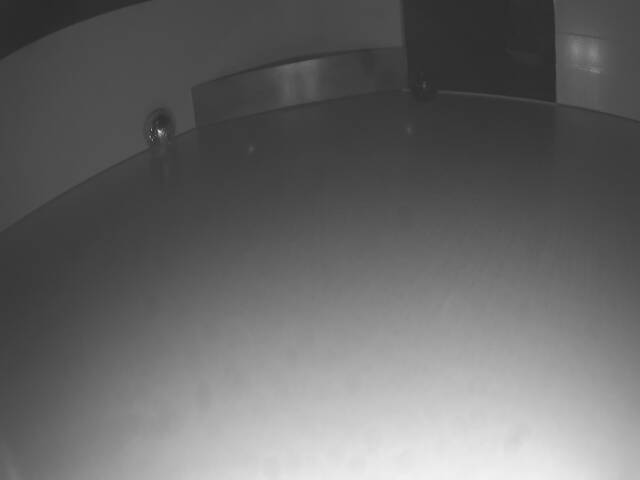Dead: (409, 60, 436, 101)
Green: (190, 47, 407, 129)
Live: (142, 110, 177, 152)
